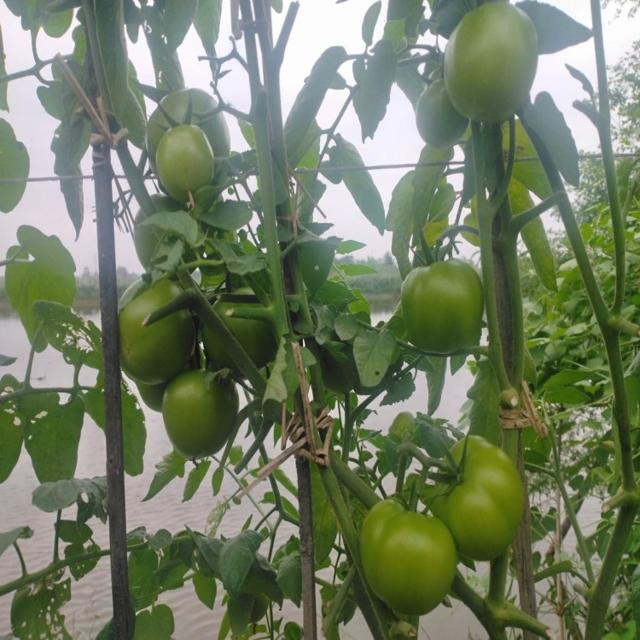tomato: (446, 1, 541, 121), (358, 502, 455, 616), (439, 437, 524, 565), (405, 265, 488, 358), (121, 283, 196, 379), (159, 366, 234, 457), (153, 90, 222, 147), (152, 131, 208, 191), (419, 79, 465, 146)
